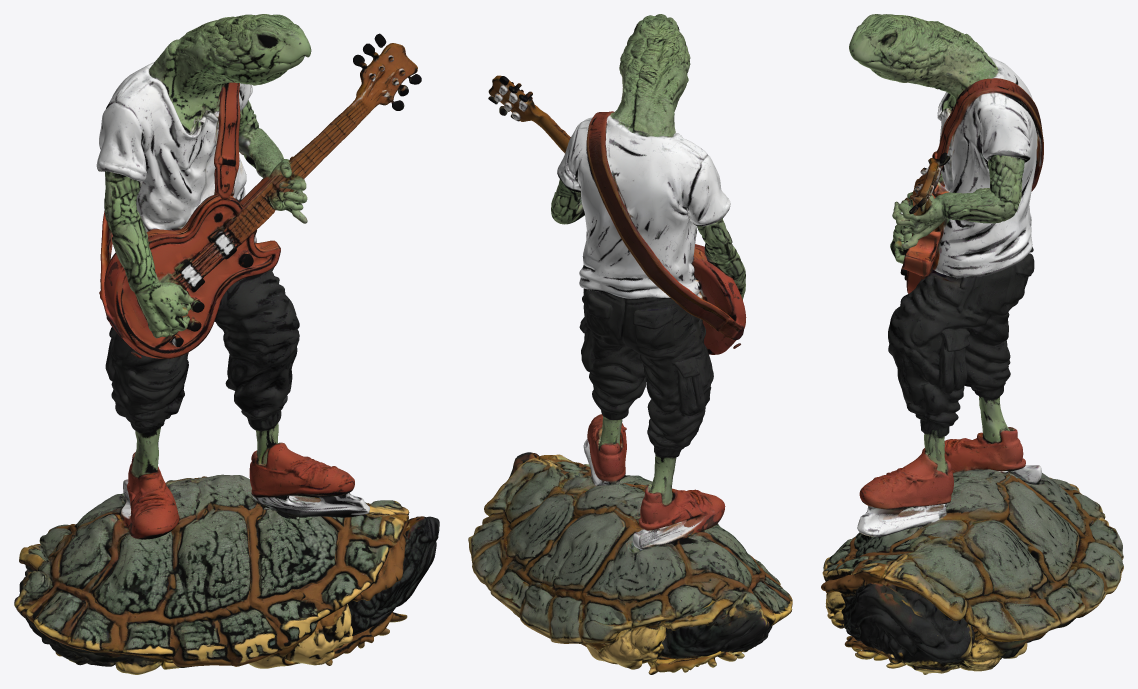
Rendered from shellbound-turtle-balanced.glb.
3 renders of one model, left to right at view 1: azimuth 30°, elevation 25°; view 2: azimuth 150°, elevation 25°; view 3: azimuth 270°, elevation 25°, orthographic. The views are drawn at different scales.
Visible parts, largest first — view 1: mesh_node; view 2: mesh_node; view 3: mesh_node.
Boxes of the visible parts, x1,y1,x2,y2 form: mesh_node: (14, 14, 439, 674); mesh_node: (468, 14, 792, 674); mesh_node: (821, 14, 1123, 674).
Size of the model in its own units: 1.11 by 1.9 by 0.8554.
1 material, 1 textured.
